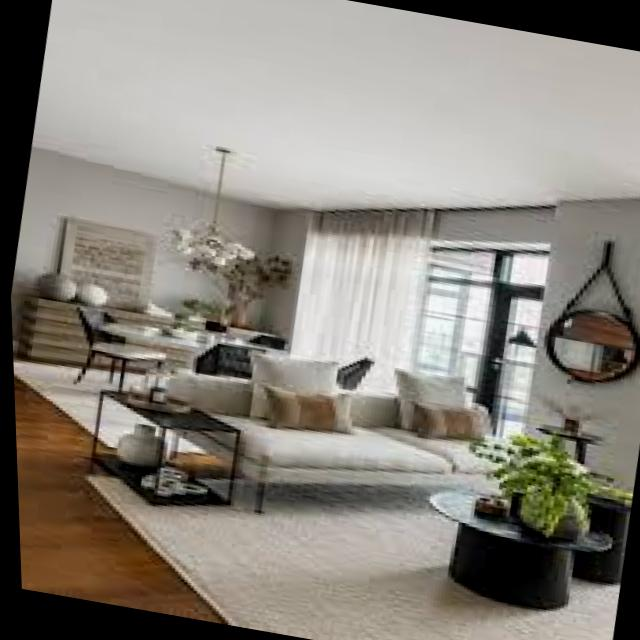noobs: (10, 359, 610, 640)
obs: (158, 374, 581, 516), (418, 486, 603, 617), (59, 309, 295, 406), (88, 389, 245, 512), (499, 464, 628, 597)
